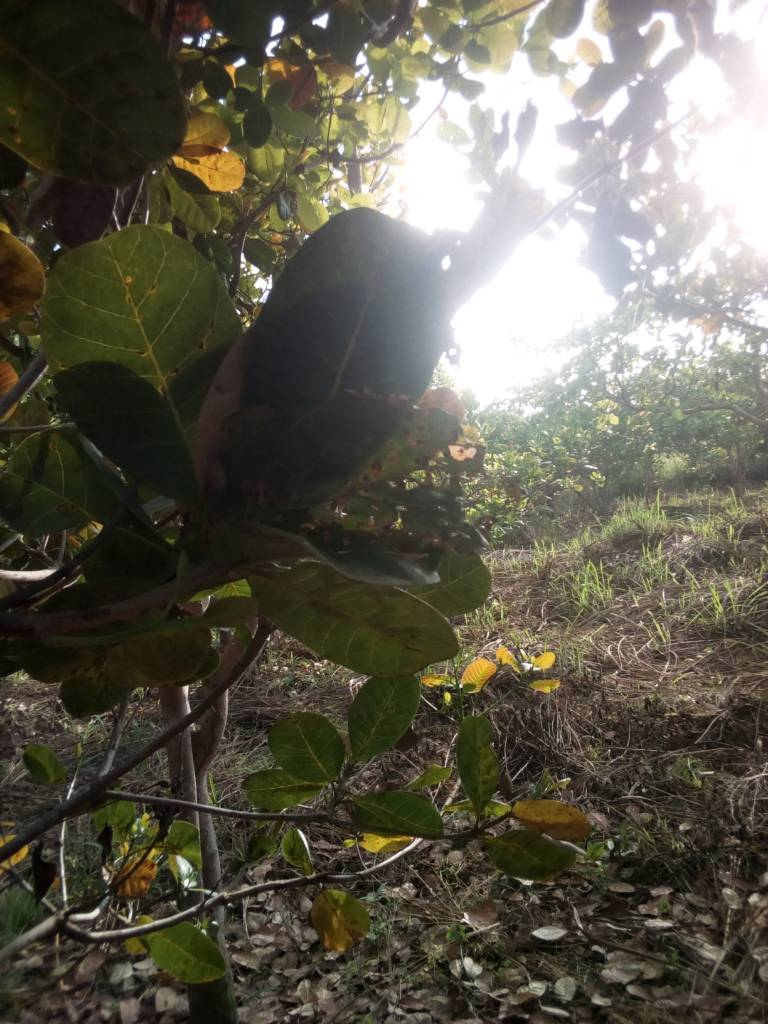Anthracnose: (1, 1, 185, 194)
